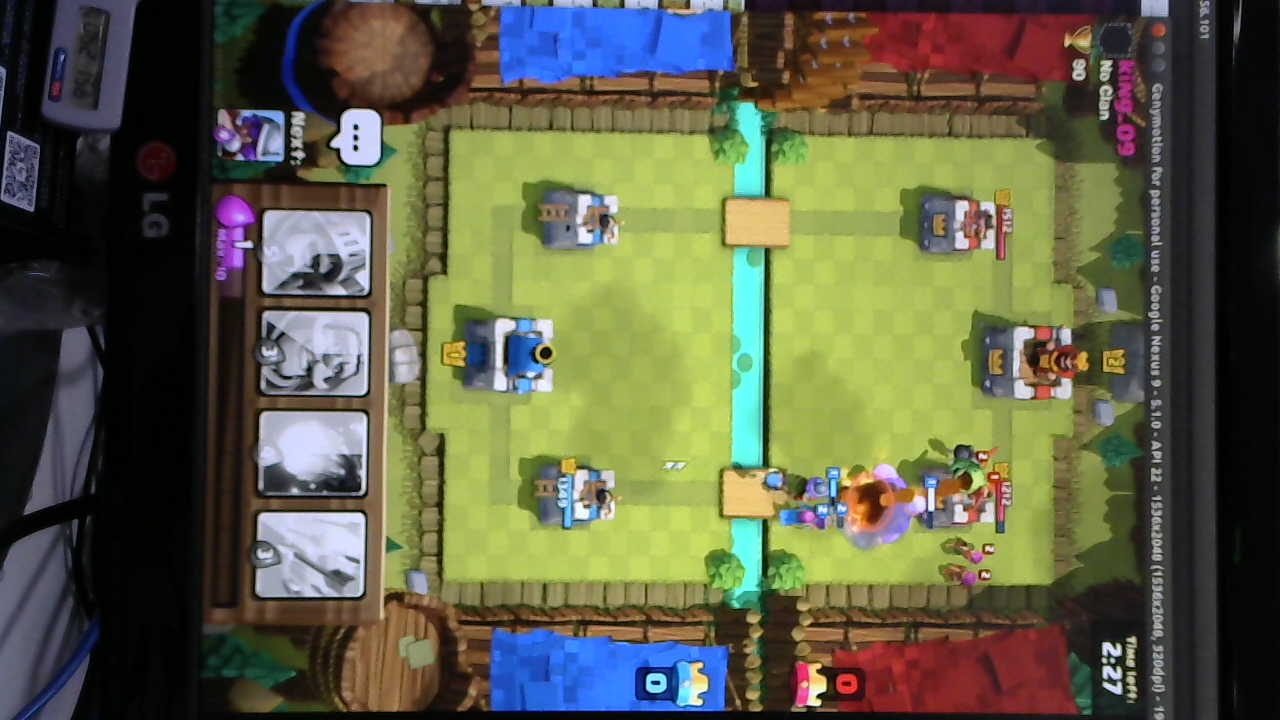archers: (945, 533, 997, 596), (776, 500, 853, 528)
arena: (543, 465, 624, 528), (543, 189, 622, 248)
bomb: (748, 463, 793, 494), (948, 437, 994, 467)
dragon: (938, 461, 1002, 500)
earena: (916, 198, 999, 260), (935, 474, 998, 527)
eking: (977, 319, 1082, 399)
giant: (865, 462, 926, 547)
king: (466, 314, 560, 396)
musketeer: (793, 469, 846, 505)
